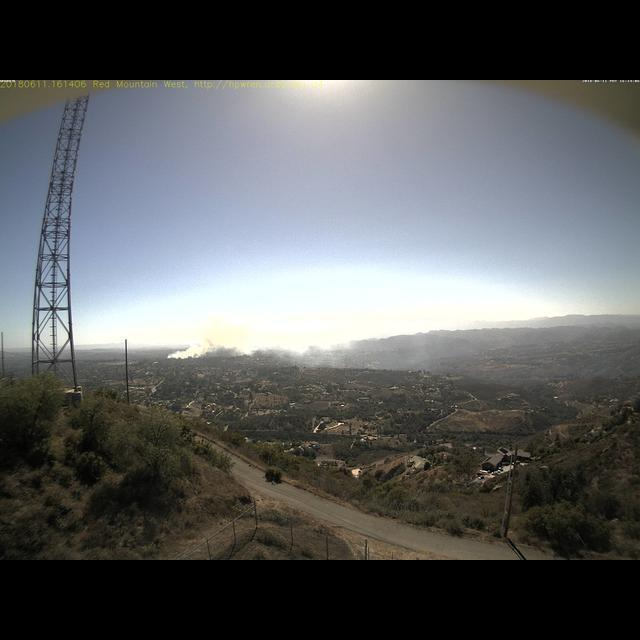Smoke: (166, 322, 365, 366)
